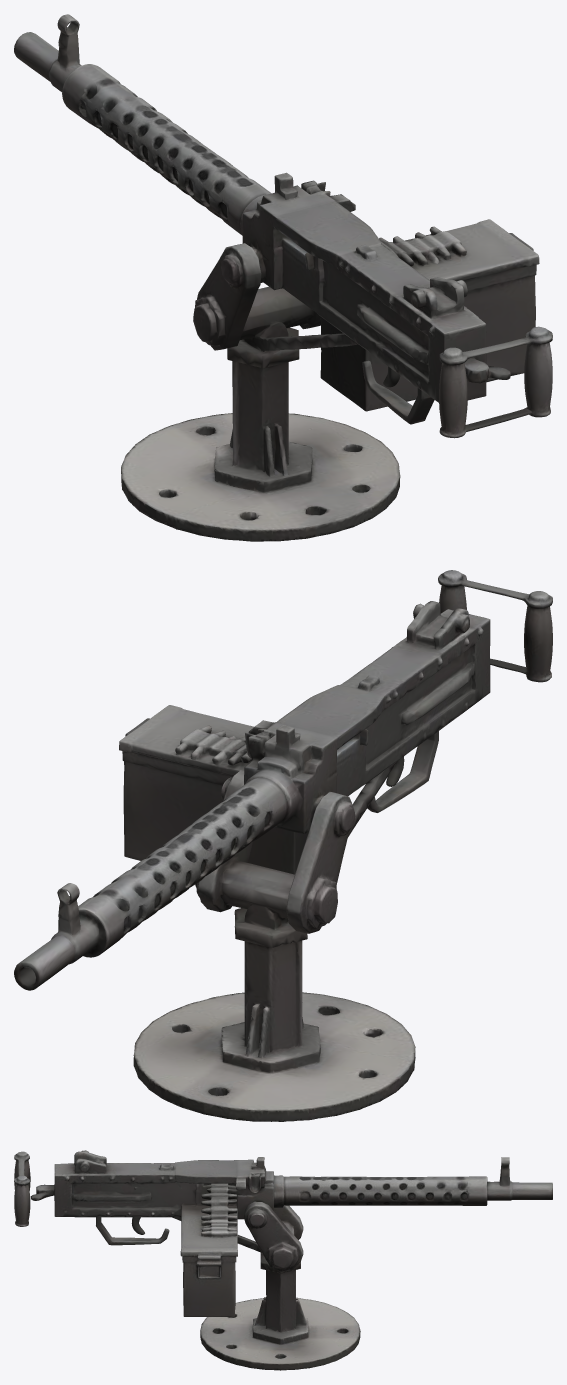
The model's file is arma_ponto50.glb.
The picture shows the model from 3 angles, top to bottom: view 1: azimuth 30°, elevation 25°; view 2: azimuth 150°, elevation 25°; view 3: azimuth 270°, elevation 25°; orthographic projection. The views are drawn at different scales.
Parts seen in each view (by area): view 1: tripo_node_7c548968-274d-4e52-9794-e29614030b65; view 2: tripo_node_7c548968-274d-4e52-9794-e29614030b65; view 3: tripo_node_7c548968-274d-4e52-9794-e29614030b65.
Boxes of the visible parts, x1,y1,x2,y2 form: tripo_node_7c548968-274d-4e52-9794-e29614030b65: (14, 14, 552, 541); tripo_node_7c548968-274d-4e52-9794-e29614030b65: (14, 570, 552, 1121); tripo_node_7c548968-274d-4e52-9794-e29614030b65: (14, 1150, 552, 1370).
Bounding box in the file's own units: 0.3907 × 0.3739 × 0.9982.
Materials: 1 (1 with a texture image).
